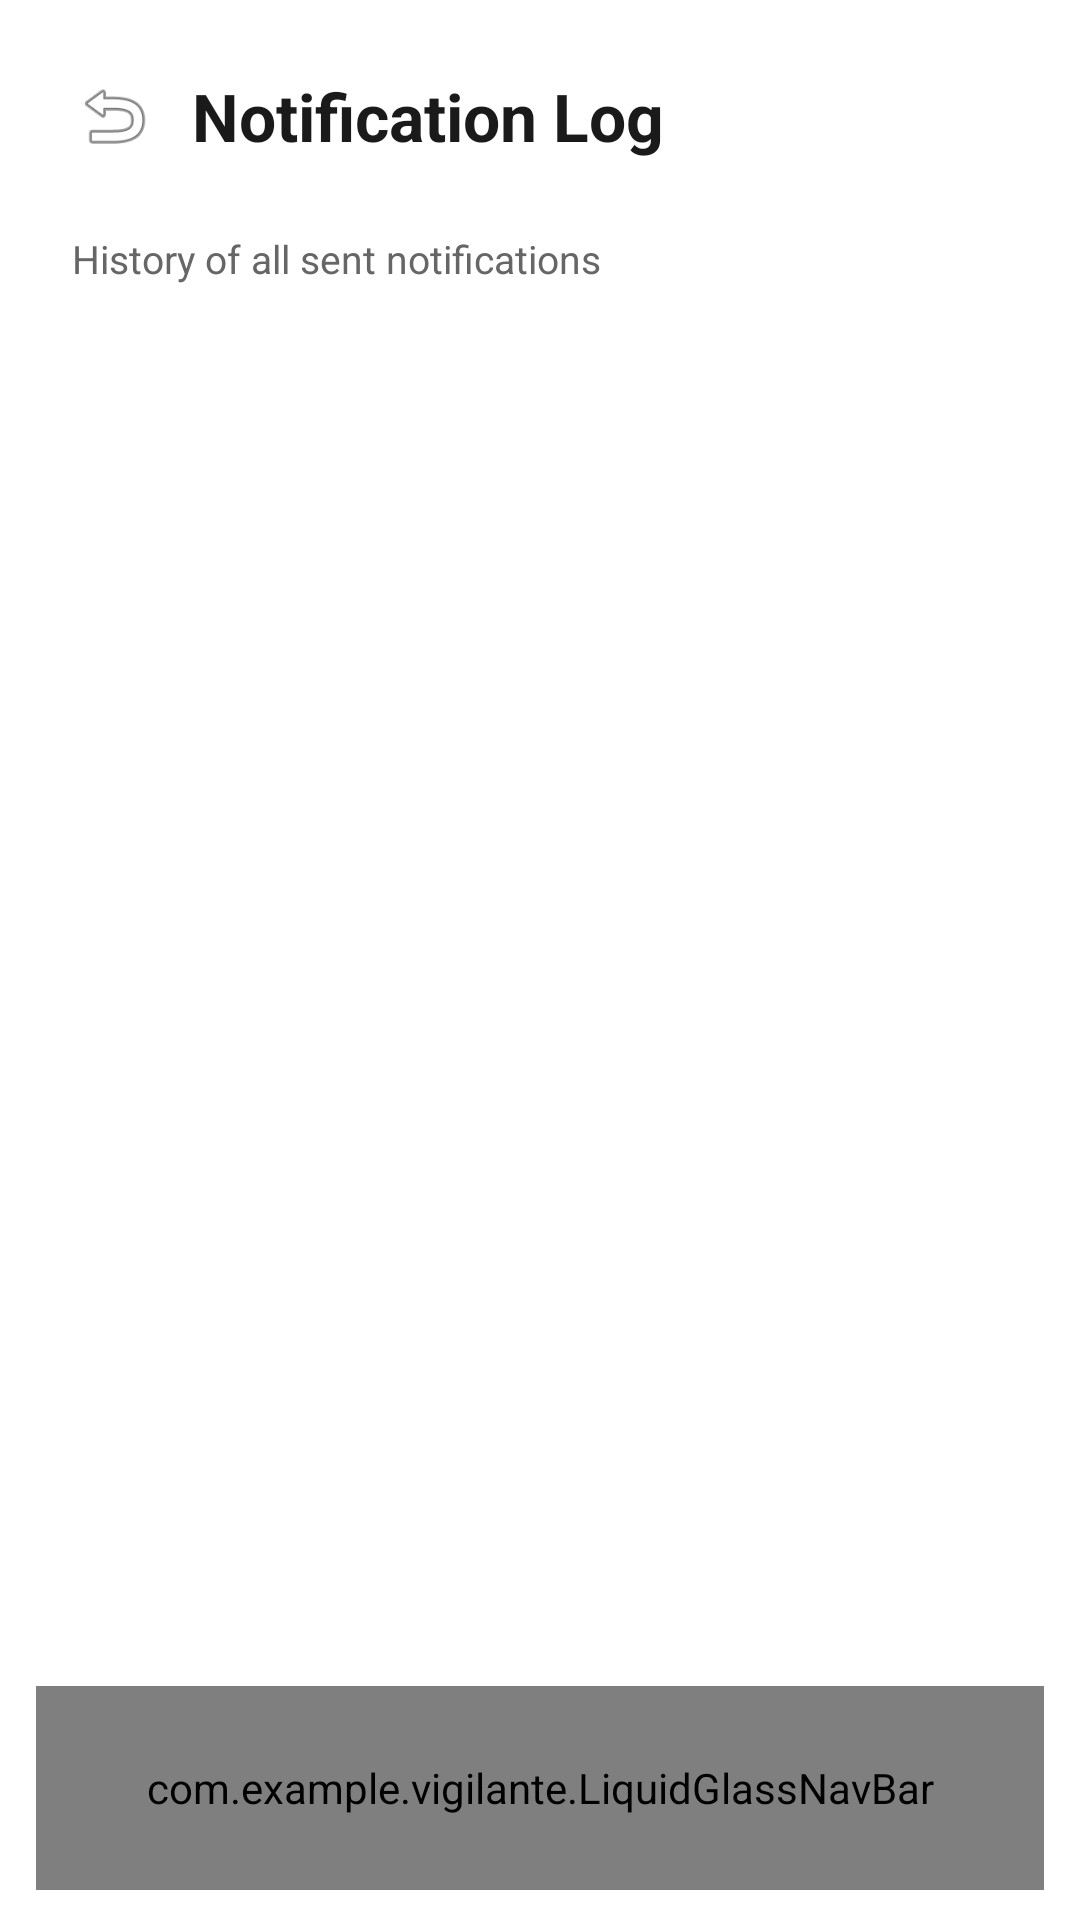

Named icons in this screenshot (1080px x 1920px) and their centers, point (x, y):
Back: point (115, 116)
